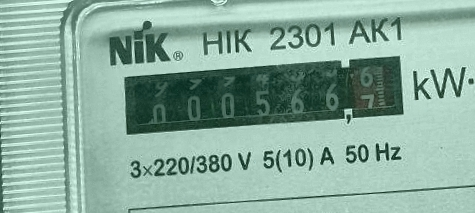0: (217, 89, 237, 120), (183, 91, 202, 121), (147, 99, 168, 123)
5: (252, 87, 272, 117)
6: (320, 79, 342, 111), (285, 85, 306, 114), (357, 63, 375, 90)
7: (359, 91, 376, 111)
9: (150, 77, 169, 98)
screen: (112, 46, 410, 145)
